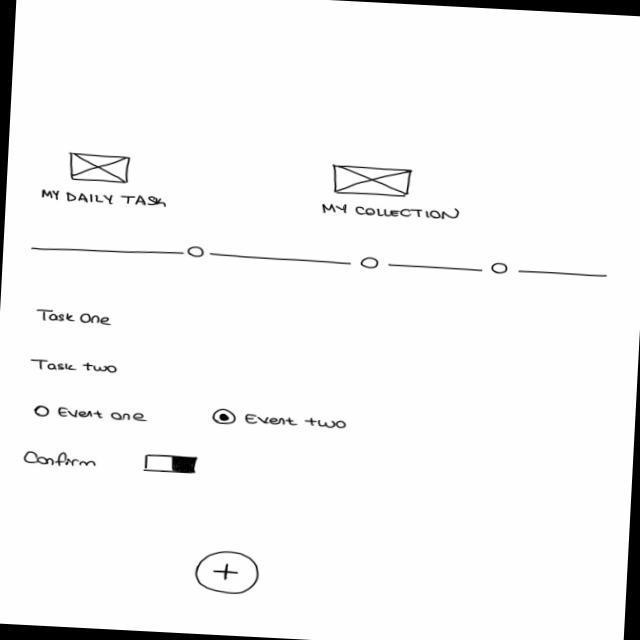icon-button: (193, 550, 263, 597)
image: (330, 165, 416, 200), (68, 151, 133, 186)
label: (40, 187, 171, 212), (321, 202, 465, 223), (23, 449, 102, 472), (30, 358, 122, 377), (34, 308, 114, 328)
radio: (211, 407, 351, 433), (33, 404, 151, 425)
toggle: (143, 453, 204, 477)
